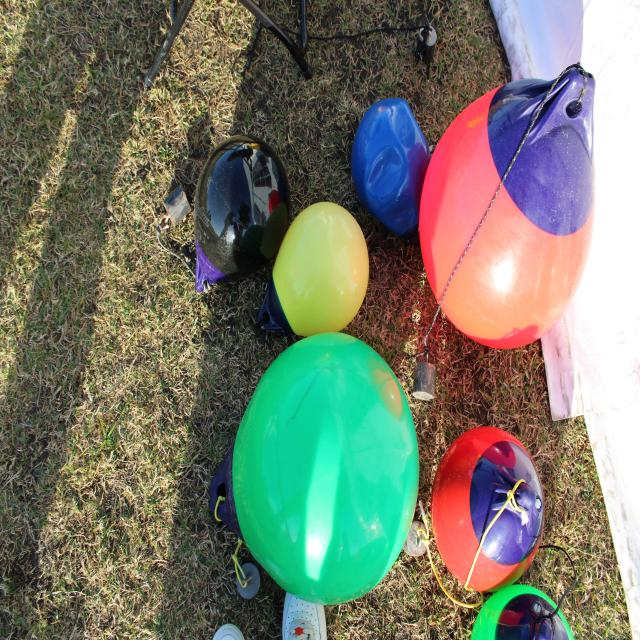black-buoy: (191, 118, 293, 290)
blue-buoy: (350, 96, 430, 238)
green-buoy: (226, 329, 427, 615), (464, 582, 590, 640)
red-buoy: (422, 66, 594, 357), (430, 419, 547, 590)
yellow-buoy: (261, 198, 375, 342)
